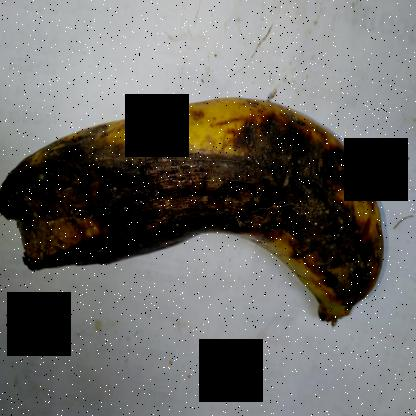rotten: (1, 85, 393, 344)
